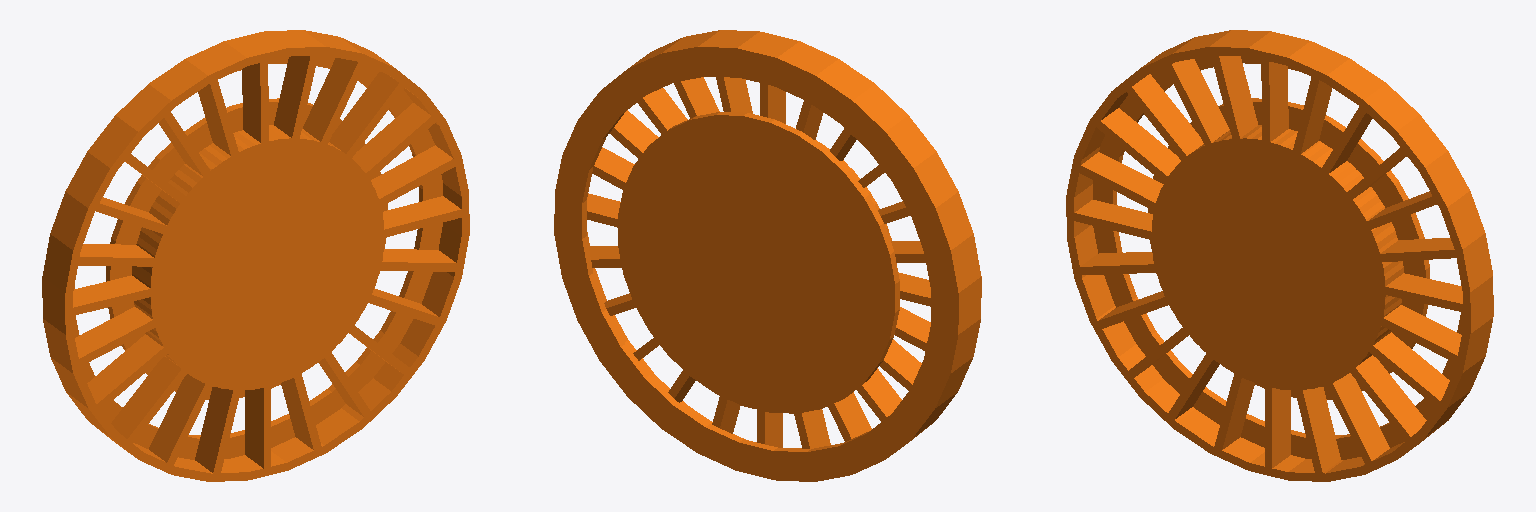
The model's file is tinker.obj.
The picture shows the model from 3 angles: view 1: azimuth 30°, elevation 25°; view 2: azimuth 150°, elevation 25°; view 3: azimuth 330°, elevation 25°; orthographic projection.
Parts seen in each view (by area): view 1: obj_0; view 2: obj_0; view 3: obj_0.
Boxes of the visible parts, x1,y1,x2,y2 form: obj_0: [42, 30, 469, 481]; obj_0: [554, 30, 981, 481]; obj_0: [1066, 30, 1493, 481].
Bounding box in the file's own units: 102 × 102 × 10.